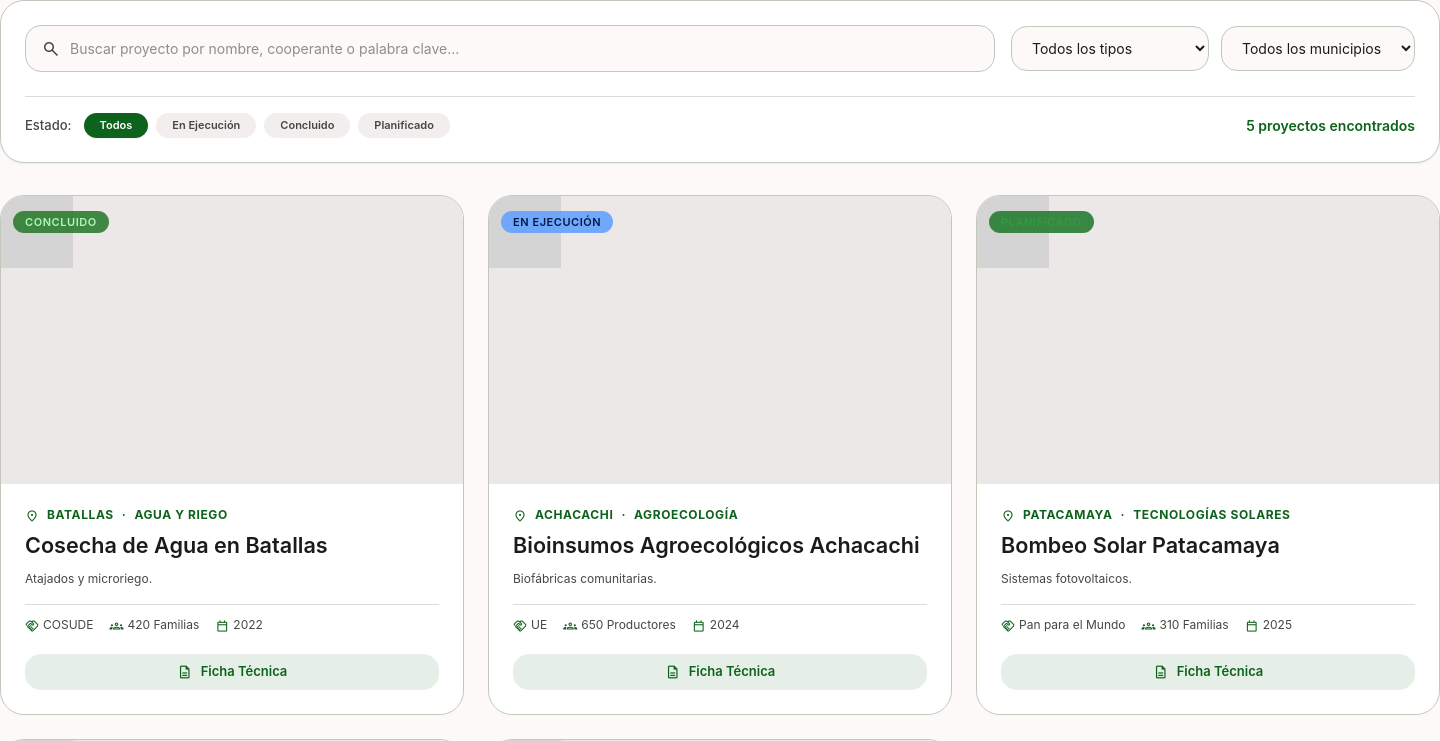
Test: ProjectsExplorer — filtro por tipo › filtra por tipo 'Agua y Riego' → solo P-001
Select "Agua y Riego" in the dropdown named "Filtrar por tipo" at (1110, 48), box [1011,26,1209,71]
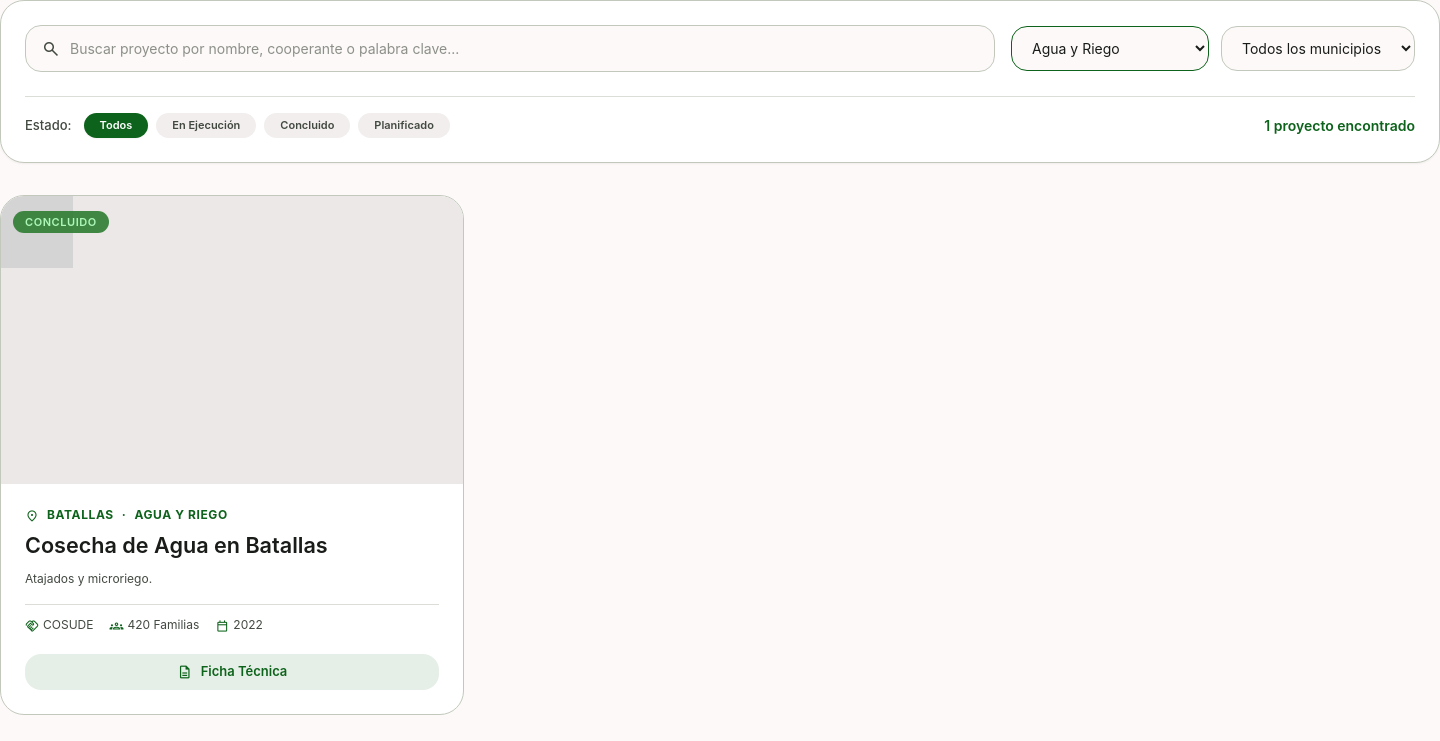
Expected: the heading "Cosecha de Agua en Batallas" is shown, [25,532,328,558]
Now the heading "Bioinsumos Agroecológicos" is gone
Now the text "1 proyecto encontrado" is shown, box [1264,117,1415,134]
